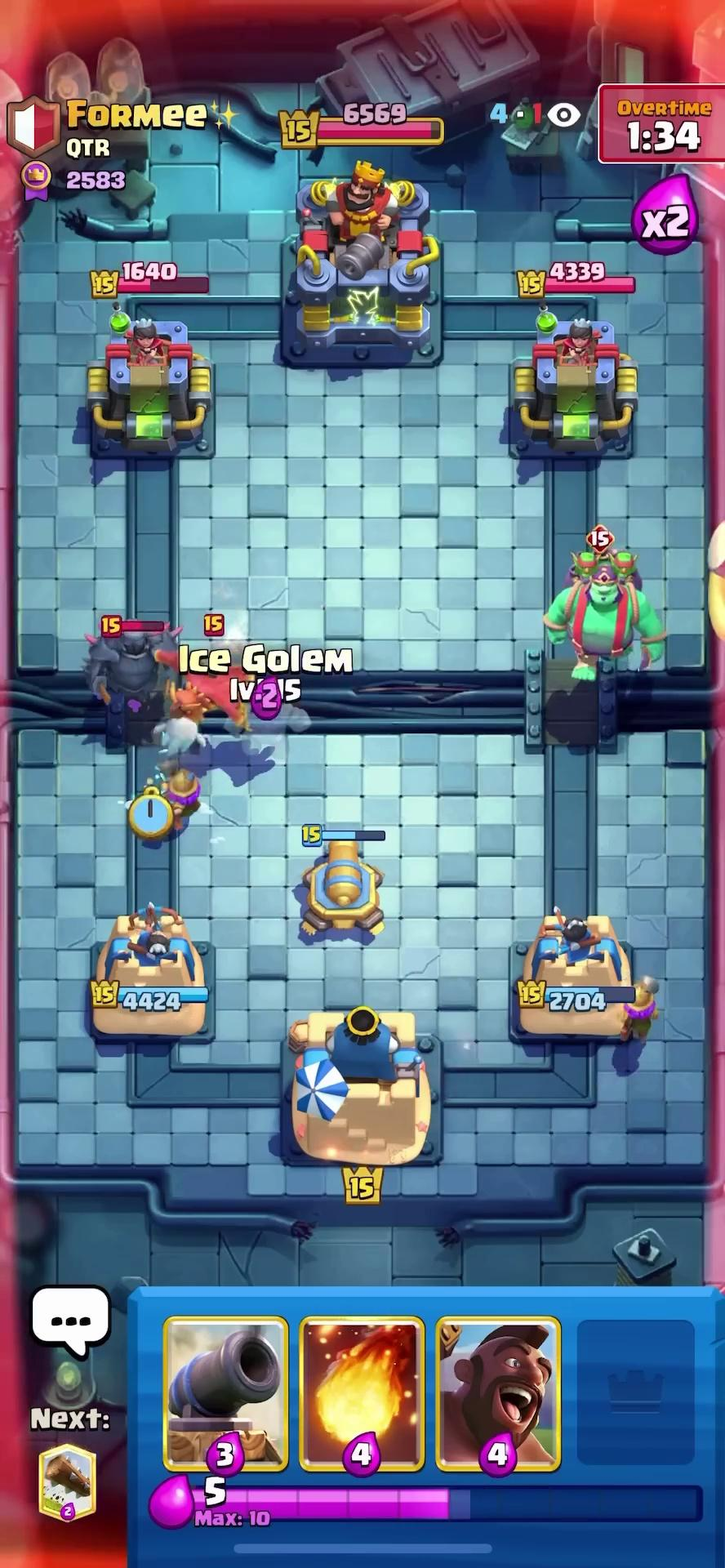cannon: (278, 817, 406, 949)
ice_spirit: (151, 704, 220, 753)
musketeer: (614, 970, 678, 1060), (147, 755, 212, 827)
